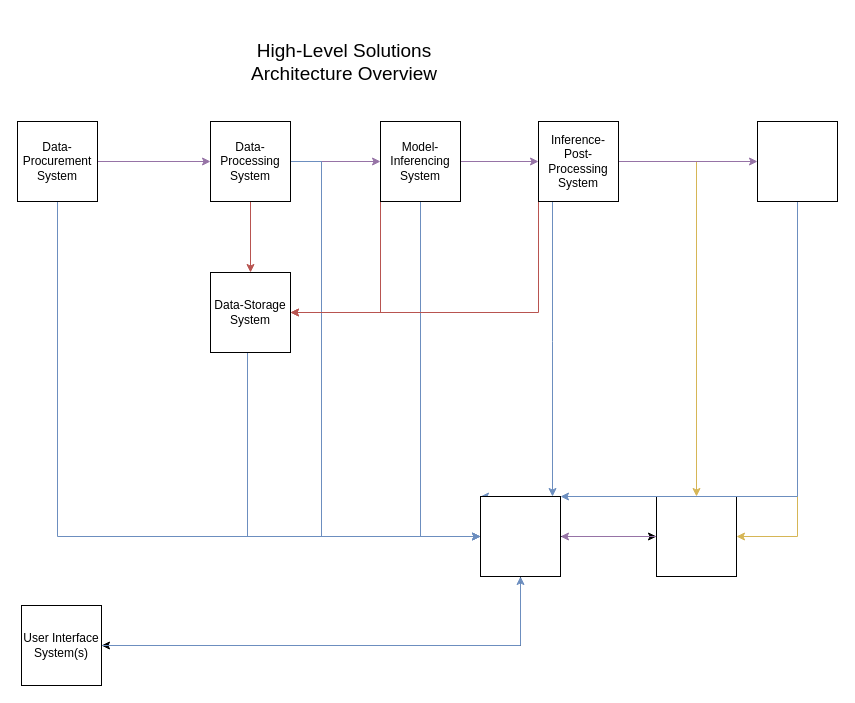
Image size: 855x703. Some labels were removed from this diagram. Each missing label, with the centre of its shape:
Maintenance System: [696,536]
Process System: [797,161]
Site Management System: [520,536]
